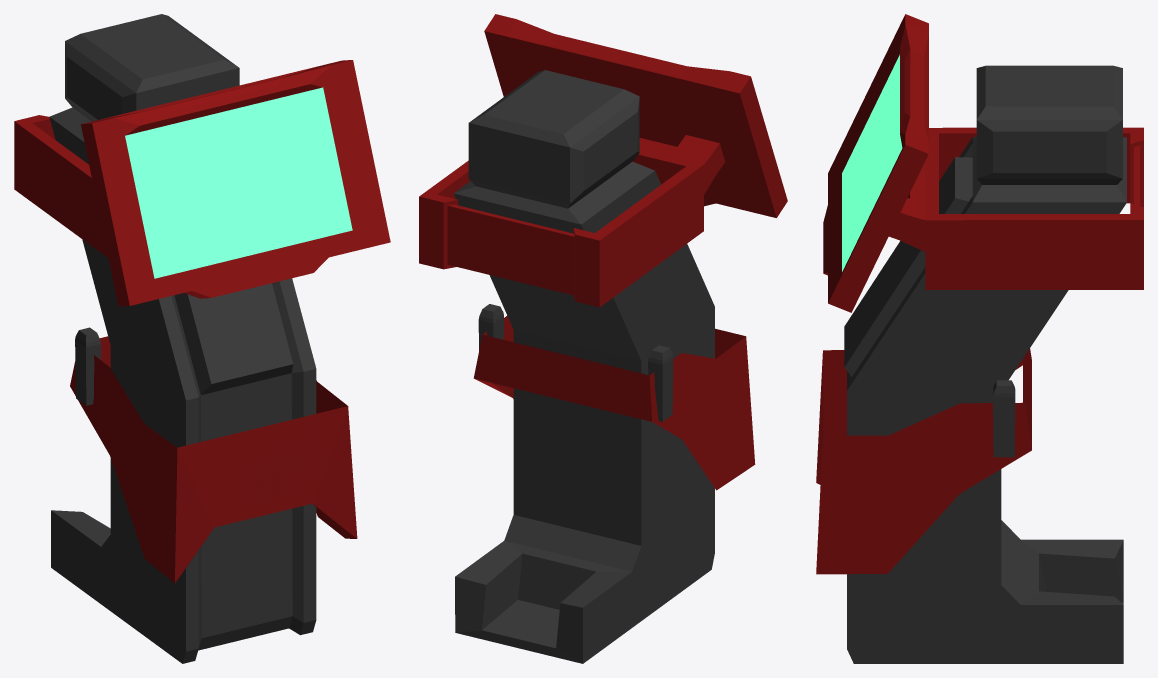
Rendered from ConsoleUnwrap.fbx.
3 views of the same model, side by side, from view 1: azimuth 30°, elevation 25°; view 2: azimuth 150°, elevation 25°; view 3: azimuth 270°, elevation 25° (orthographic). The views are drawn at different scales.
Visible parts, largest first — view 1: Body, Frame, Screen; view 2: Body, Frame; view 3: Body, Frame, Screen.
Boxes of the visible parts, x1,y1,x2,y2 form: Body: (49,14,316,663); Frame: (14,60,390,583); Screen: (125,87,352,278); Body: (453,70,714,663); Frame: (419,14,787,490); Body: (844,65,1126,663); Frame: (816,14,1143,574); Screen: (842,54,902,271).
Bounding box in the file's own units: 2 × 3.94 × 2.12.
